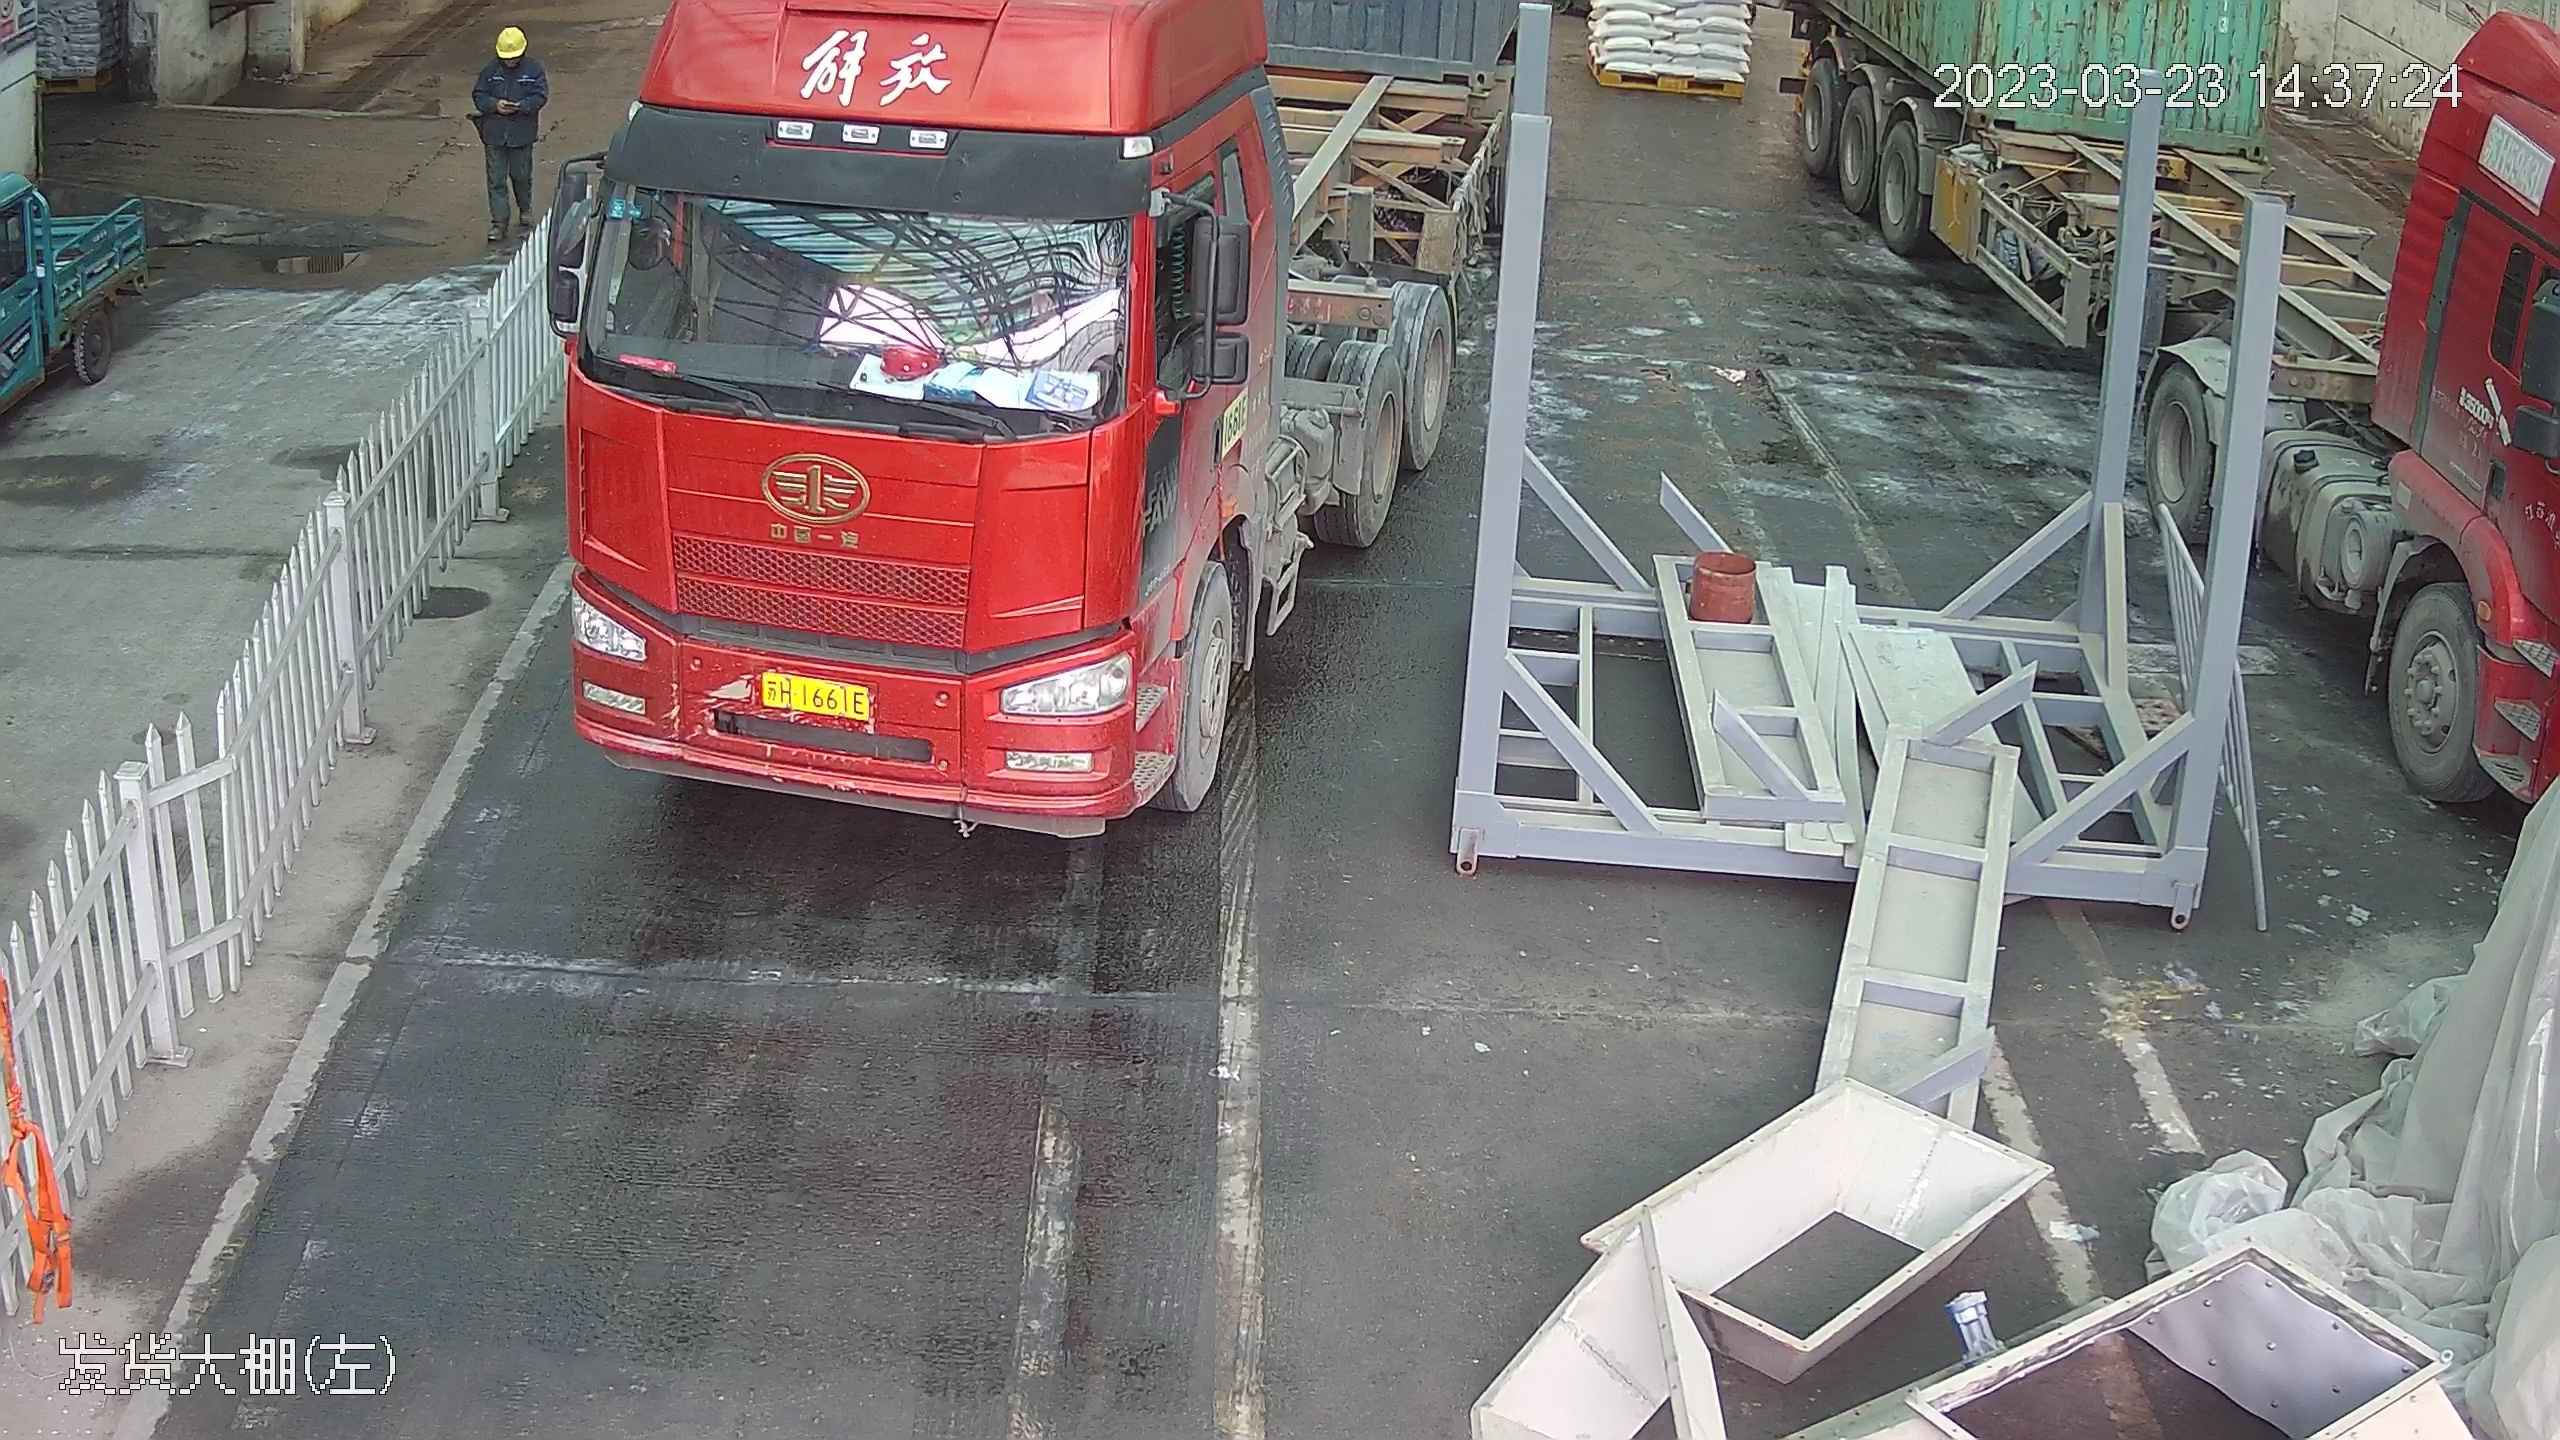head: (473, 22, 544, 96)
helmet: (489, 21, 529, 56)
people: (466, 19, 548, 241)
truck: (531, 1, 1452, 819), (1794, 8, 2560, 814)
